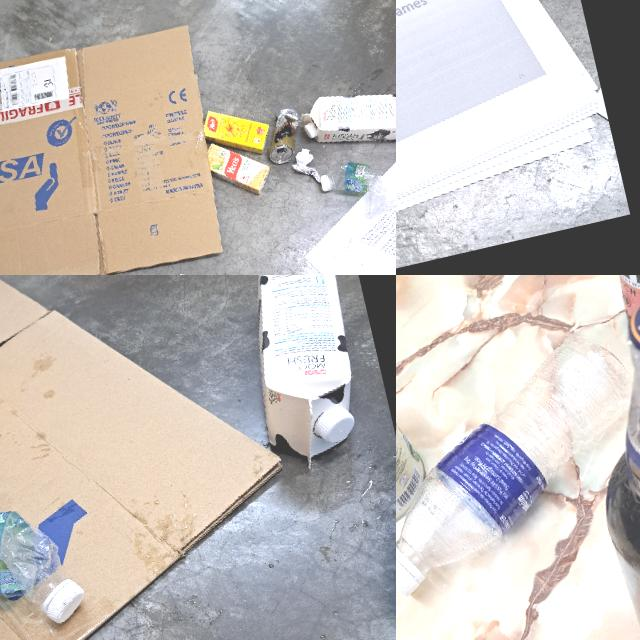aba de lata: (275, 150, 287, 163)
caixinha: (228, 275, 378, 474), (295, 73, 396, 163), (204, 132, 274, 204), (200, 98, 274, 164)
garrafa de vidro: (557, 275, 640, 640)
garrafa plástica: (396, 323, 640, 578), (0, 492, 89, 640), (317, 155, 396, 226)
lata: (396, 342, 436, 544), (260, 106, 308, 165)
papel: (396, 0, 624, 275), (288, 146, 322, 188)
papelão: (0, 275, 328, 640), (0, 18, 239, 275)
tampa plástica: (38, 574, 88, 626), (396, 542, 425, 602), (316, 406, 357, 446), (318, 172, 334, 192), (304, 120, 320, 138)
